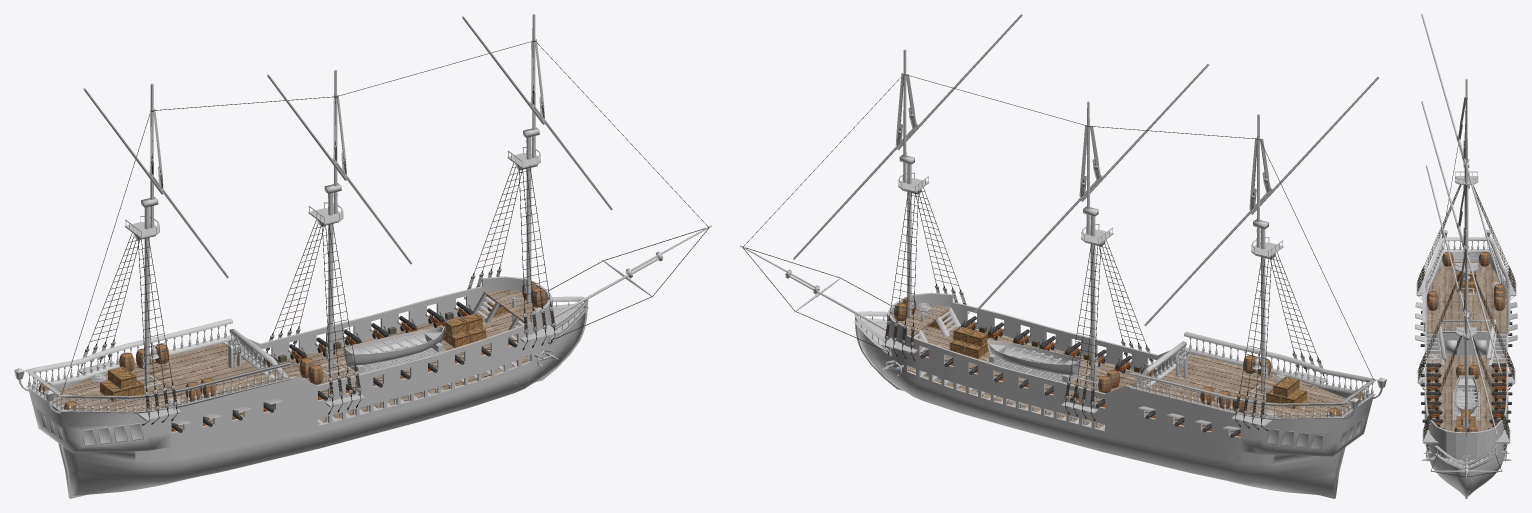
File: GalleyLD0.FBX
3 renders of one model, left to right at view 1: azimuth 30°, elevation 25°; view 2: azimuth 150°, elevation 25°; view 3: azimuth 270°, elevation 25°, orthographic. The views are drawn at different scales.
Visible parts, largest first — view 1: GalleyCorpsLD0_017, GalleyMastsLD0_005, DeckLD0_010, GalleyBoardsLD0_008, VantsLD0_011, BoatLD0_002, Rope1LD0_030, MastsRopesLow_002, ShipElementsLD0_008, WindowLD0_009; view 2: GalleyCorpsLD0_017, GalleyMastsLD0_005, DeckLD0_010, GalleyBoardsLD0_008, VantsLD0_011, BoatLD0_002, MastsRopesLow_002, Rope1LD0_030, ShipElementsLD0_008, WindowLD0_009; view 3: DeckLD0_010, GalleyCorpsLD0_017, GalleyMastsLD0_005, GalleyBoardsLD0_008, VantsLD0_011, BoatLD0_002, MastsRopesLow_002, Rope1LD0_030, ShipElementsLD0_008, GalleyRopesLD0_011, MastsRopesLD0_002, DoorLD0_032 (+6 smaller).
Part boxes in pixels (x1,y1,x2,y2): GalleyCorpsLD0_017: (28,276,587,498); GalleyMastsLD0_005: (60,14,711,421); DeckLD0_010: (54,289,545,429); GalleyBoardsLD0_008: (24,292,588,413); VantsLD0_011: (80,163,555,425); BoatLD0_002: (343,327,444,373); Rope1LD0_030: (62,41,708,393); MastsRopesLow_002: (150,39,544,187); ShipElementsLD0_008: (227,336,558,374); WindowLD0_009: (39,413,143,446); GalleyCorpsLD0_017: (855,292,1373,498); GalleyMastsLD0_005: (740,14,1379,427); DeckLD0_010: (893,305,1351,434); GalleyBoardsLD0_008: (854,307,1376,419); VantsLD0_011: (884,187,1324,430); BoatLD0_002: (987,340,1081,382); MastsRopesLow_002: (895,73,1270,209); Rope1LD0_030: (743,74,1372,378); ShipElementsLD0_008: (882,348,1189,383); WindowLD0_009: (1266,419,1362,450); DeckLD0_010: (1426,262,1506,431); GalleyCorpsLD0_017: (1415,252,1517,498); GalleyMastsLD0_005: (1416,14,1516,477); GalleyBoardsLD0_008: (1422,237,1510,470); VantsLD0_011: (1416,184,1516,449); BoatLD0_002: (1454,375,1478,416); MastsRopesLow_002: (1458,97,1467,310); Rope1LD0_030: (1431,99,1501,477); ShipElementsLD0_008: (1421,307,1511,462); GalleyRopesLD0_011: (1423,20,1499,430); MastsRopesLD0_002: (1458,100,1466,310); DoorLD0_032: (1445,340,1457,355).
Bounding box in the file's own units: 706 × 432 × 127.
